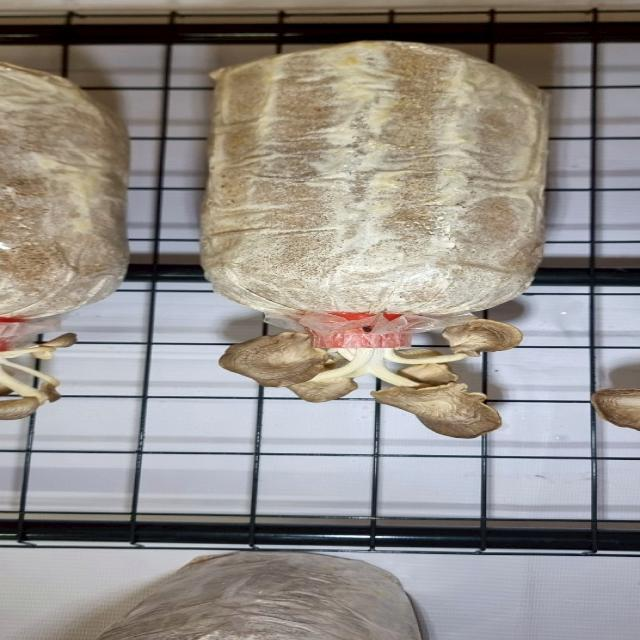abnormal: (224, 301, 552, 440)
